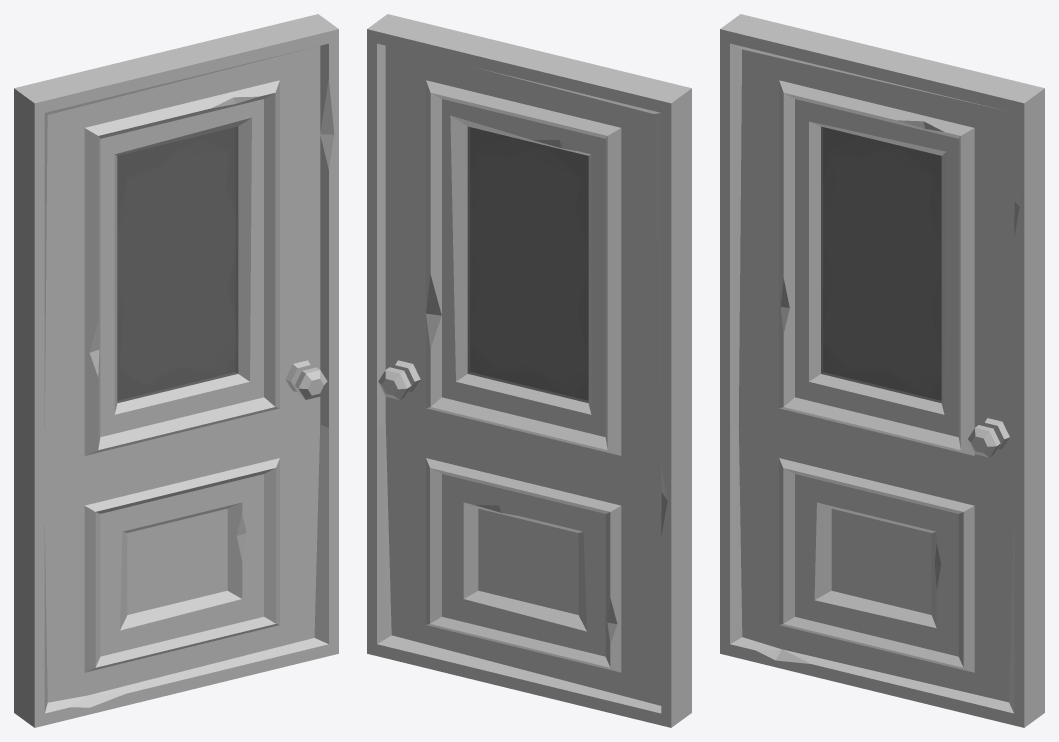
File: SM_Bld_Door_01.fbx
3 renders of one model, left to right at view 1: azimuth 30°, elevation 25°; view 2: azimuth 150°, elevation 25°; view 3: azimuth 330°, elevation 25°, orthographic.
Visible parts, largest first — view 1: SM_Bld_Door_01; view 2: SM_Bld_Door_01; view 3: SM_Bld_Door_01.
Part boxes in pixels (box(x1,y1,x2,y2)): SM_Bld_Door_01: box(14, 14, 338, 727); SM_Bld_Door_01: box(367, 14, 691, 727); SM_Bld_Door_01: box(720, 14, 1044, 727).
Bounding box in the file's own units: 100 × 197 × 24.4.
